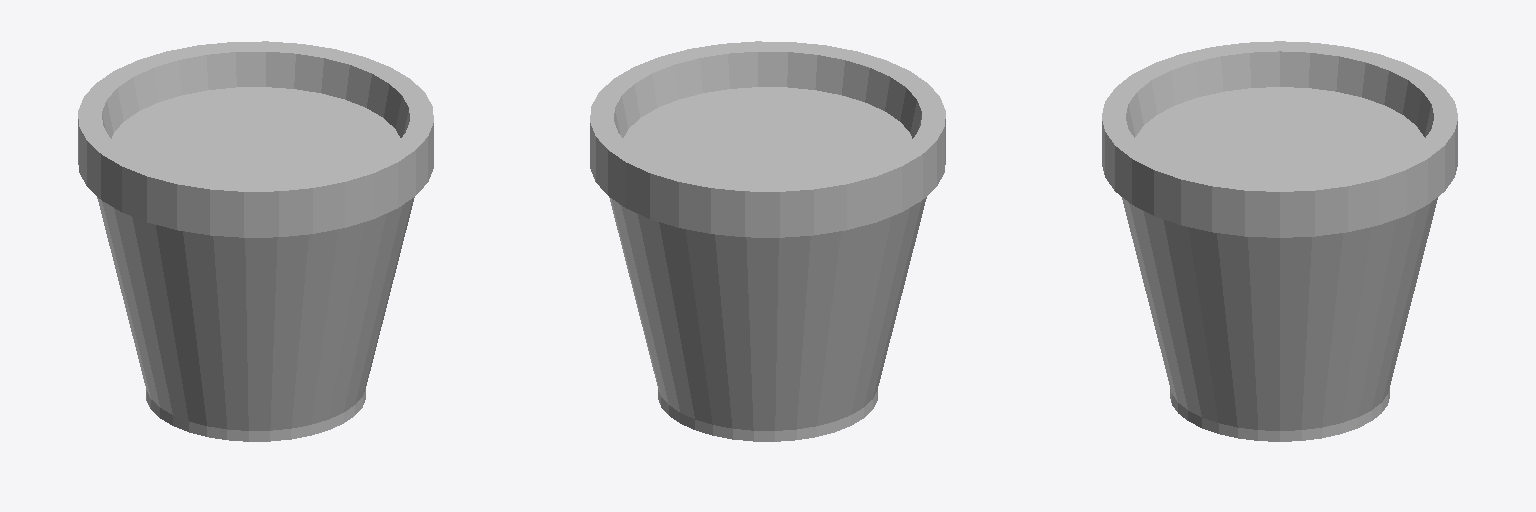
File: doniczka_ziemia5.obj
3 views of the same model, side by side, from view 1: azimuth 30°, elevation 25°; view 2: azimuth 150°, elevation 25°; view 3: azimuth 270°, elevation 25° (orthographic).
Visible parts, largest first — view 1: pusta_Cylinder.008, ziemia_Cylinder.006; view 2: pusta_Cylinder.008, ziemia_Cylinder.006; view 3: pusta_Cylinder.008, ziemia_Cylinder.006.
Boxes of the visible parts, box(x1,y1,x2,y2) form: pusta_Cylinder.008: box(78, 41, 433, 441); ziemia_Cylinder.006: box(112, 87, 400, 181); pusta_Cylinder.008: box(590, 41, 945, 441); ziemia_Cylinder.006: box(623, 87, 911, 181); pusta_Cylinder.008: box(1102, 41, 1457, 441); ziemia_Cylinder.006: box(1135, 87, 1424, 181).
Size of the model in its own units: 3.23 by 2.79 by 3.23.